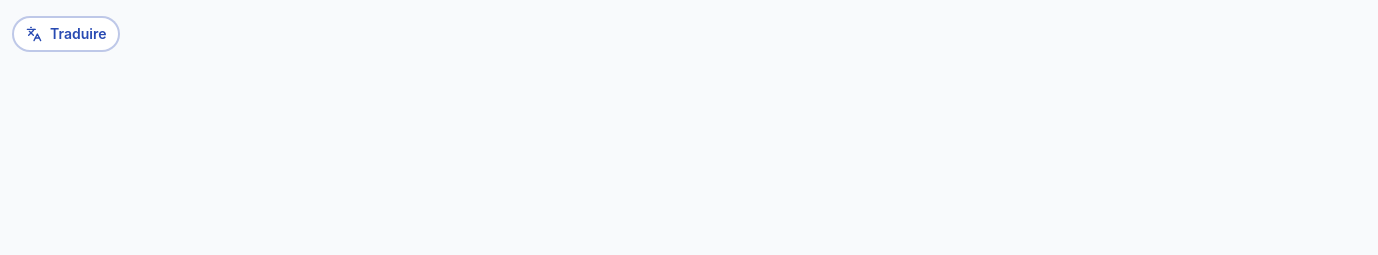
Traduction séparée des leçons › ne réutilise pas une traduction pour une autre source française
Later steps or results of the test are not shown.
What coordinates should you click on to do the following:
click the button "Traduire"
I would click on:
 (66, 34)
Its box is [12,16,120,52].
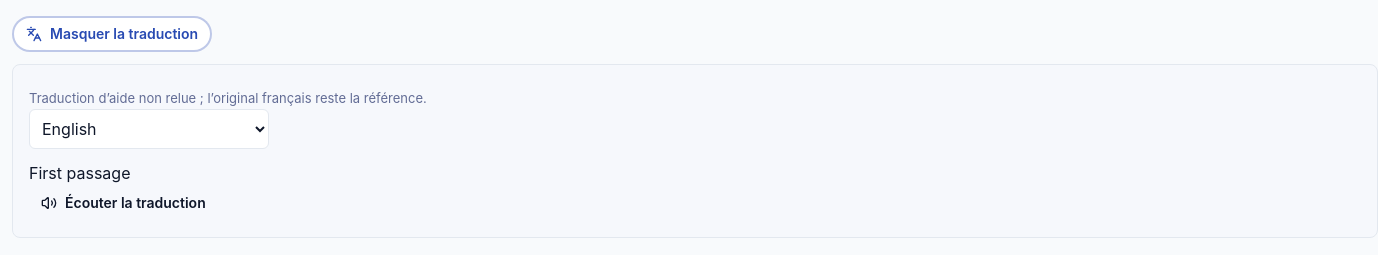
Now the text "First passage" is shown, box [29,162,130,182]
